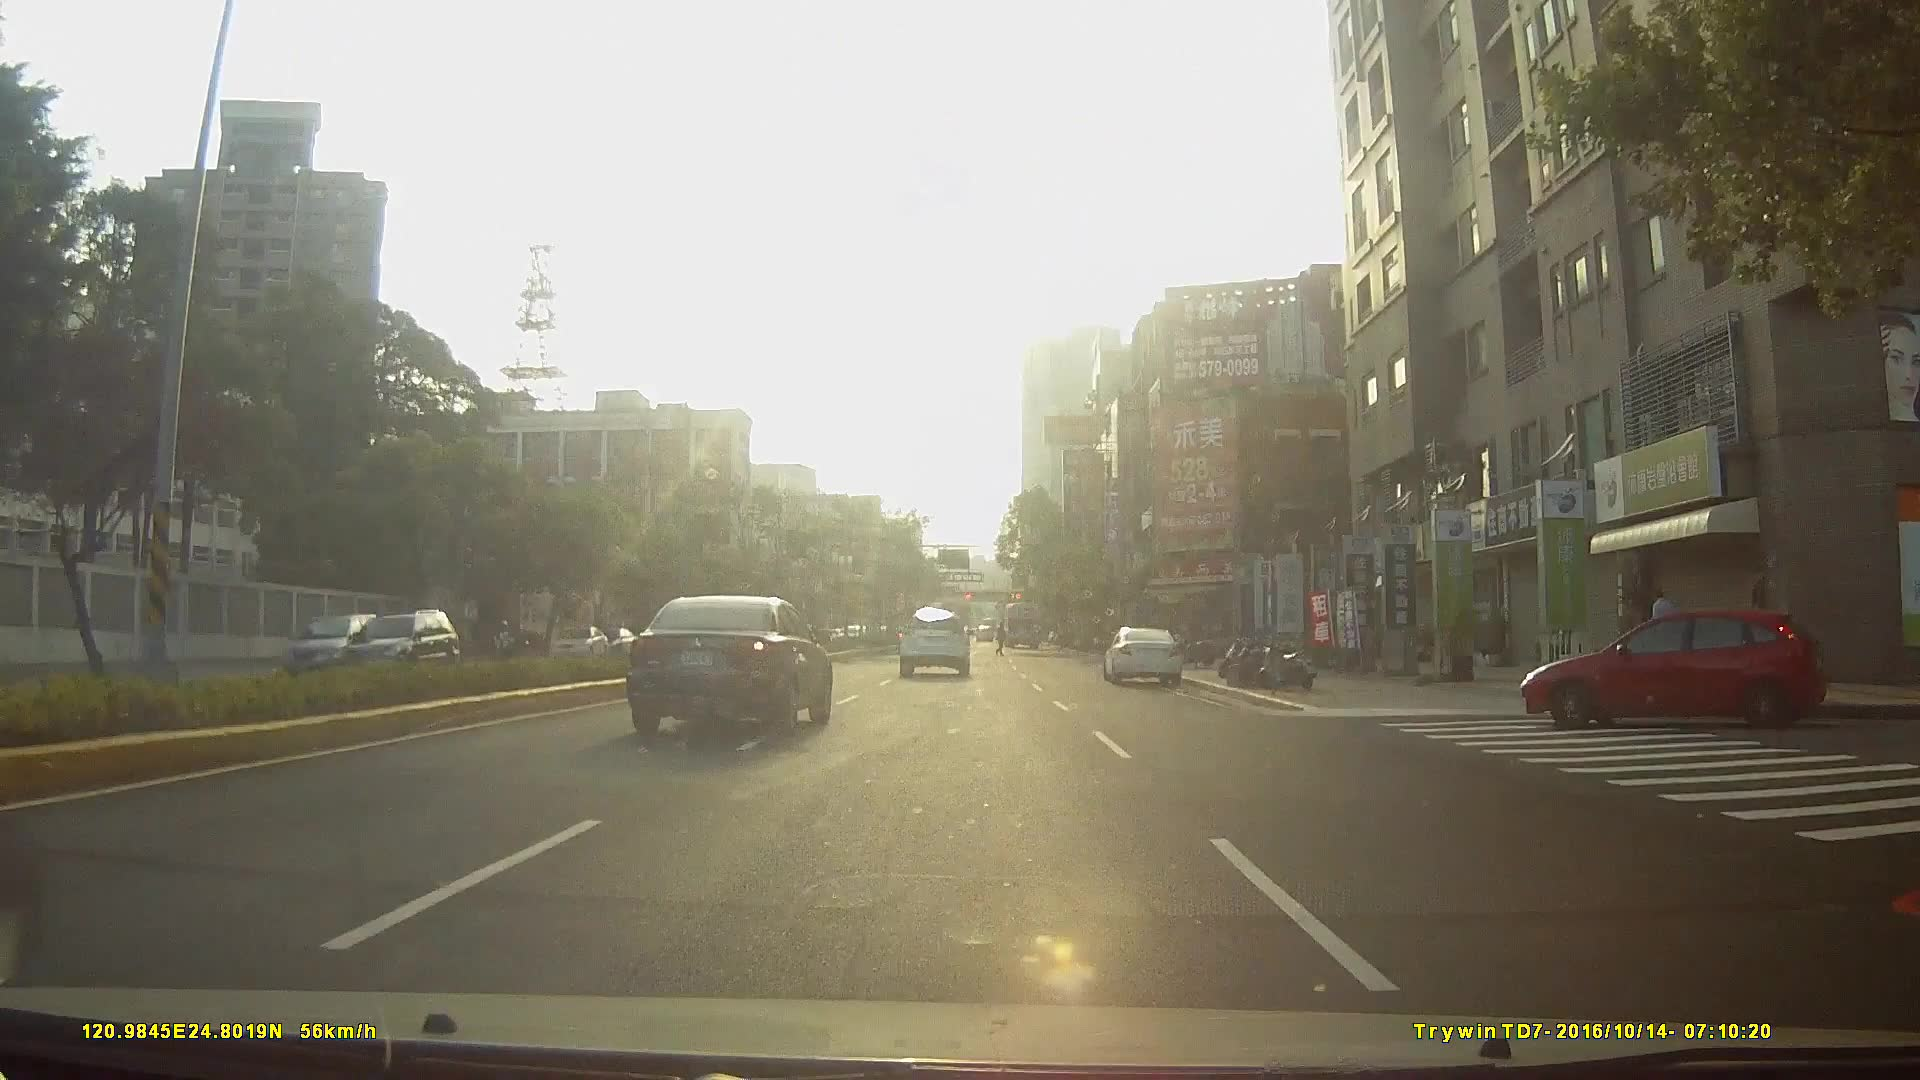pedestrian: (1647, 589, 1679, 678)
rider: (490, 617, 522, 665)
vehicle: (1513, 607, 1842, 735), (630, 593, 835, 736), (320, 606, 447, 676), (284, 612, 375, 676), (897, 607, 971, 678), (1102, 625, 1187, 686), (998, 599, 1043, 649), (549, 624, 607, 659)
